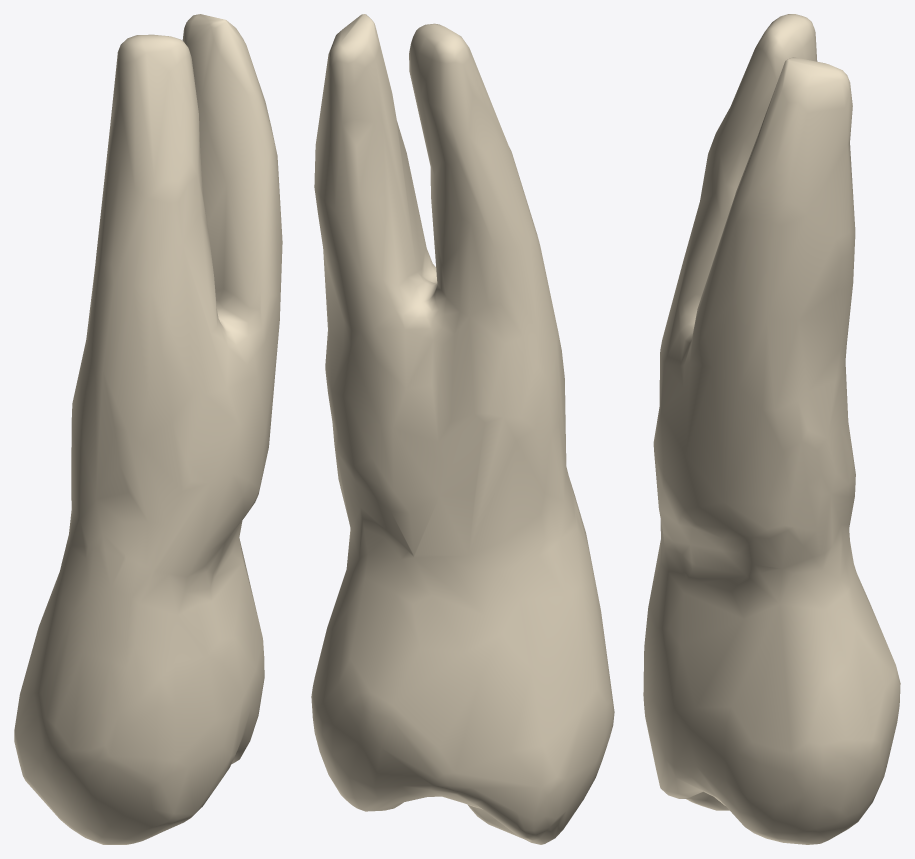
File: upper-first-premolar-r.glb
The picture shows the model from 3 angles, left to right: view 1: azimuth 30°, elevation 25°; view 2: azimuth 150°, elevation 25°; view 3: azimuth 270°, elevation 25°; orthographic projection. The views are drawn at different scales.
Parts seen in each view (by area): view 1: Upper first premolar.r; view 2: Upper first premolar.r; view 3: Upper first premolar.r.
Part boxes in pixels (left/top/right/bottom): Upper first premolar.r: left=14, top=14, right=282, bottom=844; Upper first premolar.r: left=311, top=14, right=614, bottom=844; Upper first premolar.r: left=643, top=14, right=900, bottom=844.
Size of the model in its own units: 0.00931 by 0.0277 by 0.00786.
